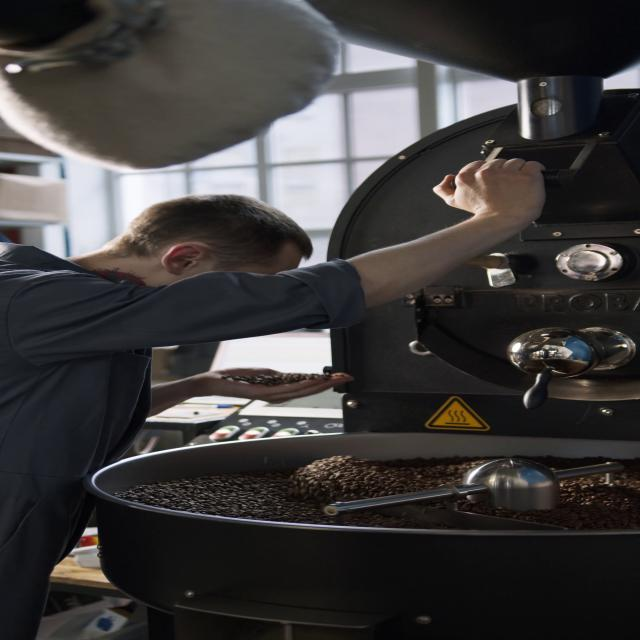not-gloved: (431, 156, 548, 224), (195, 365, 355, 405)
